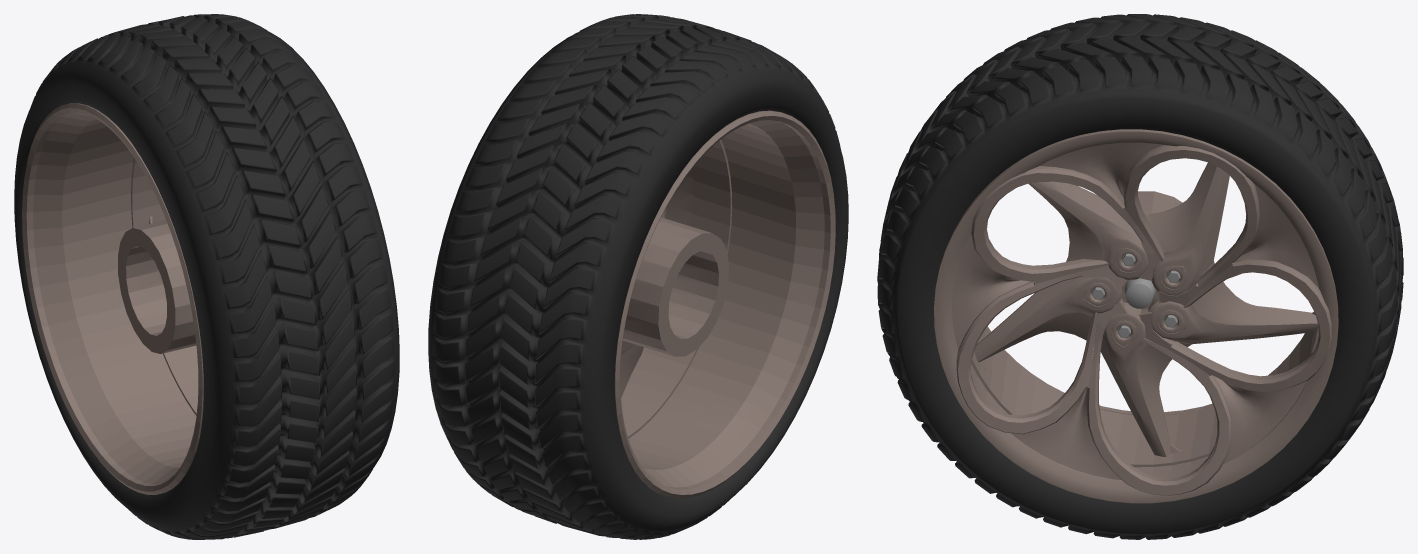
The model's file is fancy_tyre.glb.
The picture shows the model from 3 angles, left to right: view 1: azimuth 30°, elevation 25°; view 2: azimuth 150°, elevation 25°; view 3: azimuth 270°, elevation 25°; orthographic projection.
Visible parts, largest first — view 1: C5AR_tire, C5AR_rim; view 2: C5AR_tire, C5AR_rim; view 3: C5AR_rim, C5AR_tire.
Boxes of the visible parts, left/top/right/bottom form: C5AR_tire: left=14, top=14, right=399, bottom=539; C5AR_rim: left=22, top=103, right=203, bottom=494; C5AR_tire: left=428, top=14, right=848, bottom=539; C5AR_rim: left=614, top=110, right=835, bottom=498; C5AR_rim: left=934, top=129, right=1338, bottom=503; C5AR_tire: left=877, top=14, right=1403, bottom=539.
Bounding box in the file's own units: 0.3198 × 0.704 × 0.7058.
